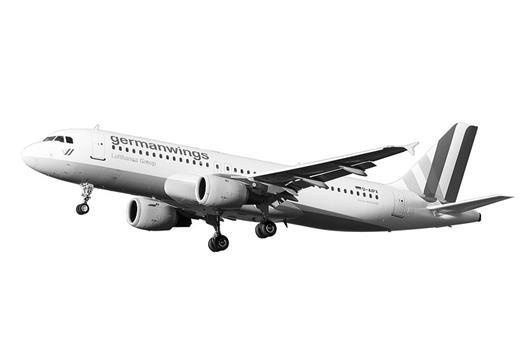airplane: (21, 115, 517, 253)
